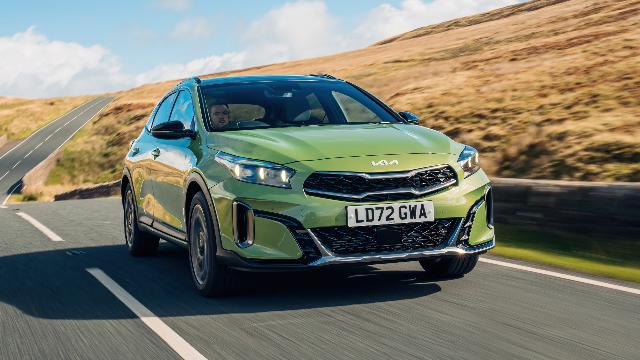kia: (120, 73, 496, 295)
